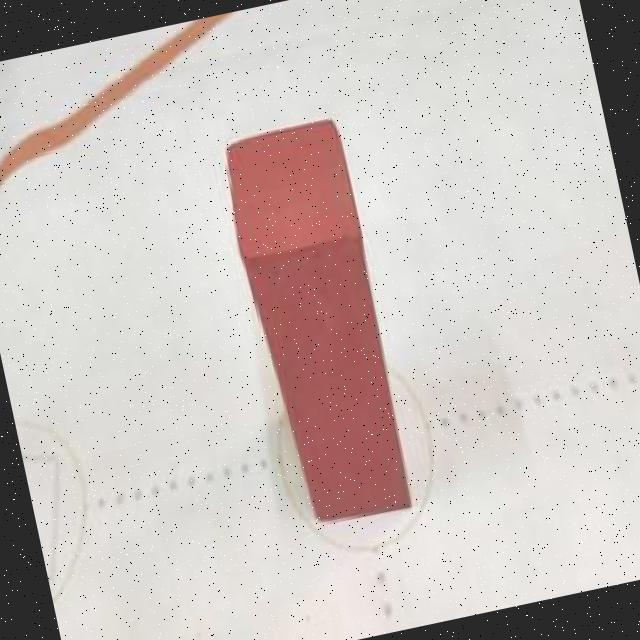redbox: (218, 115, 422, 532)
